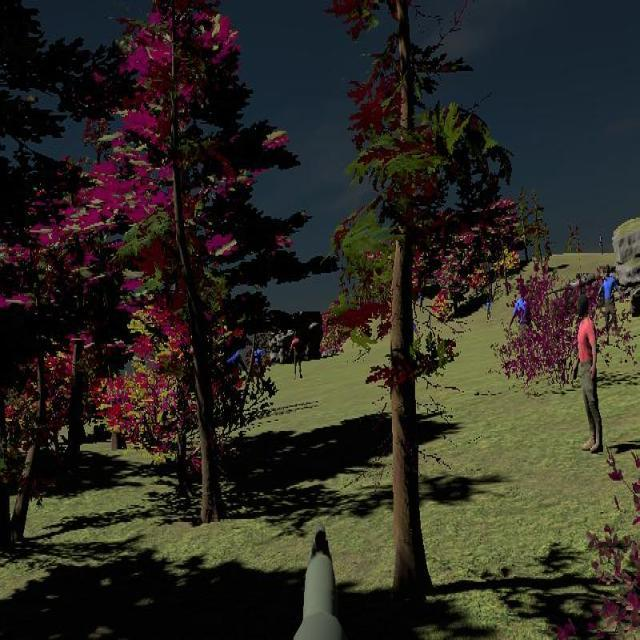Human: (573, 292, 603, 454), (597, 265, 621, 343)
